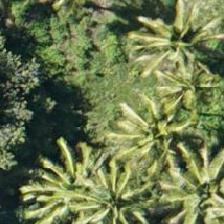coconut_tree: (121, 88, 211, 178), (20, 141, 110, 223), (142, 6, 223, 96), (69, 158, 159, 223)
